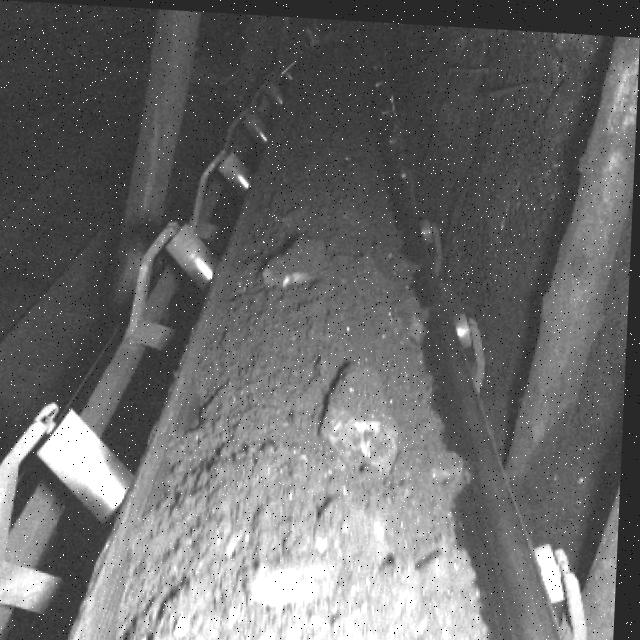large_sized_coal: (322, 362, 406, 468), (259, 229, 332, 286)
